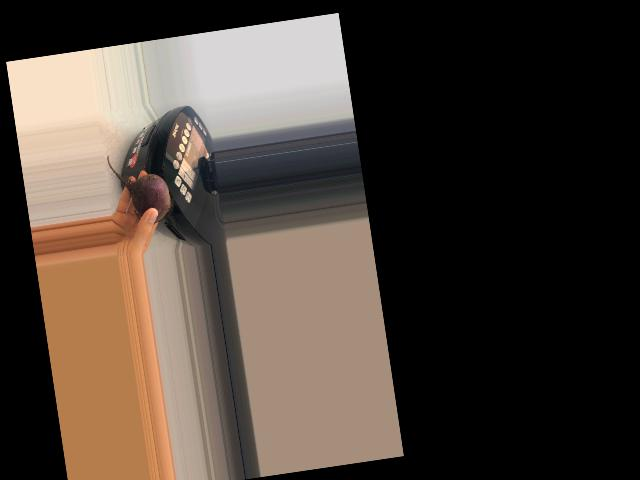beet: (106, 146, 175, 228)
